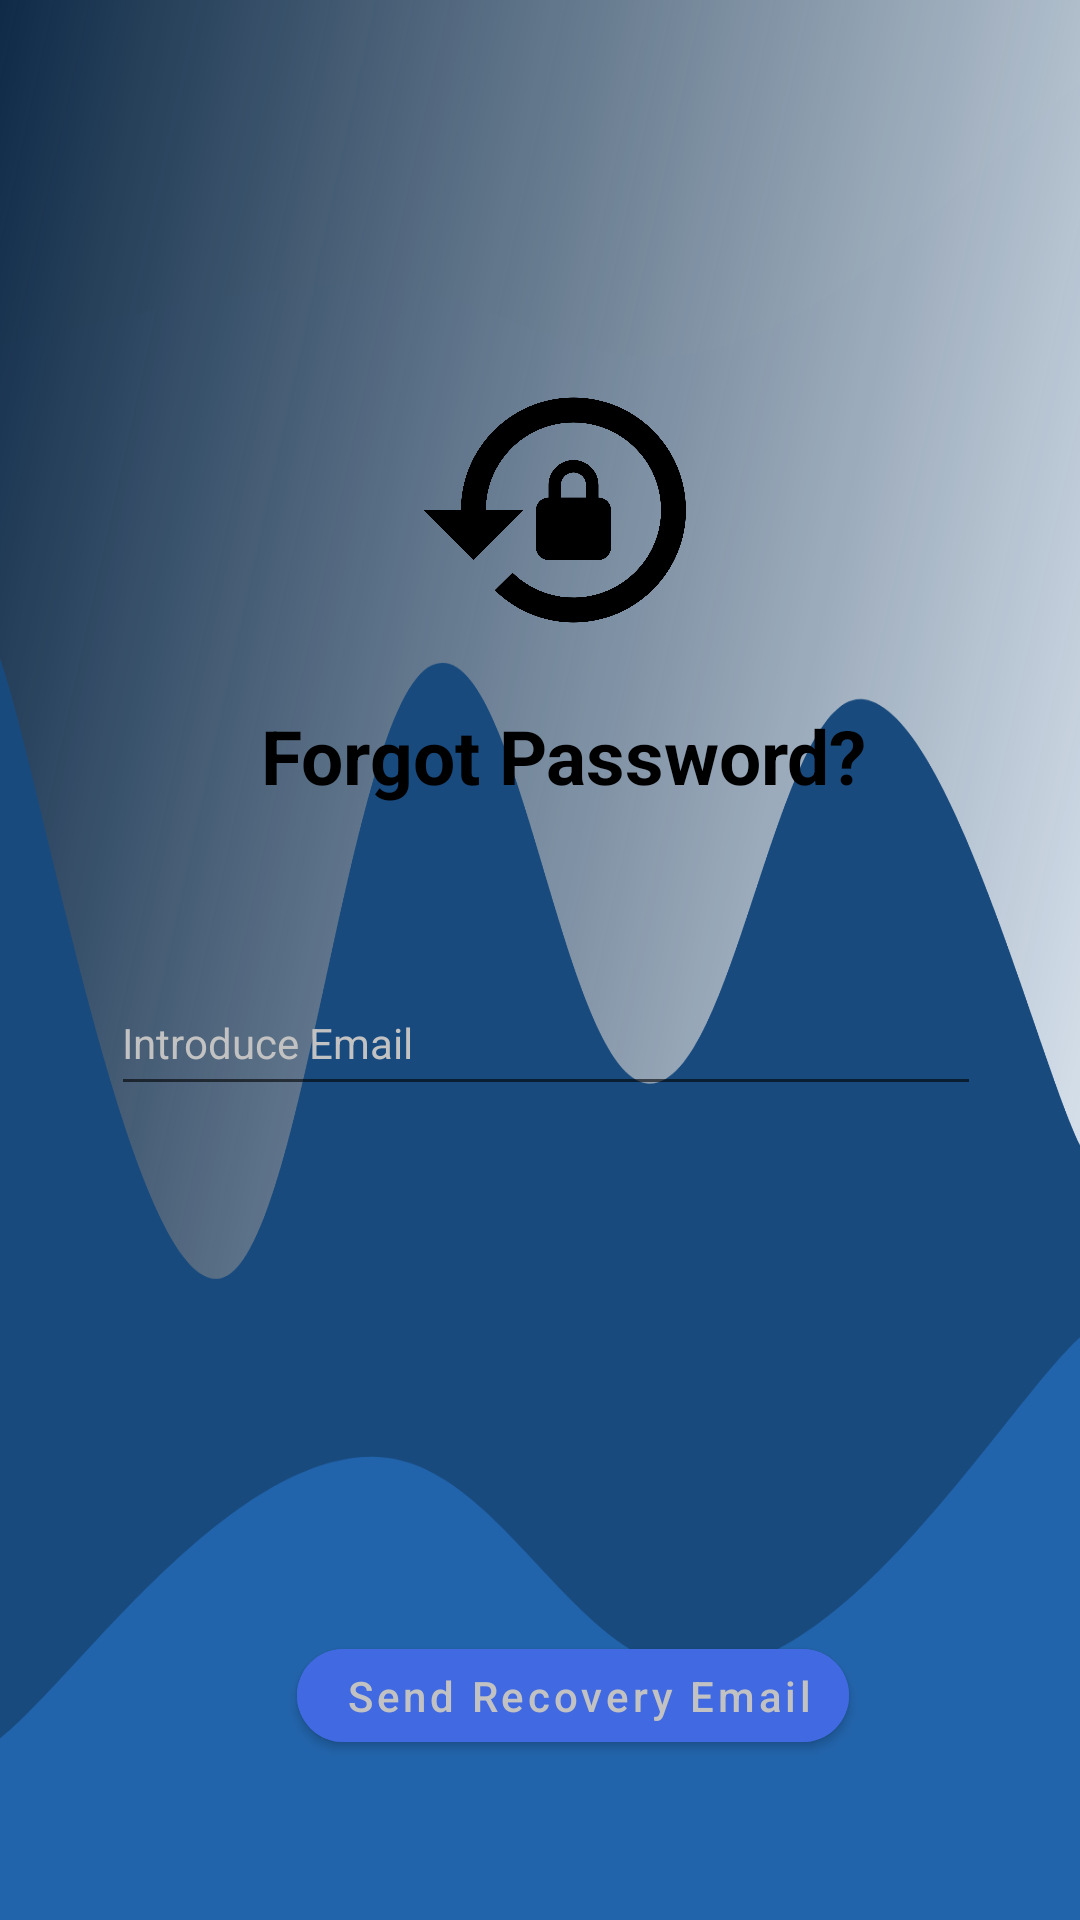

Named icons in this screenshot (1080x1920) and their centers, (x=x, y=y):
lock reset: (x=561, y=510)
